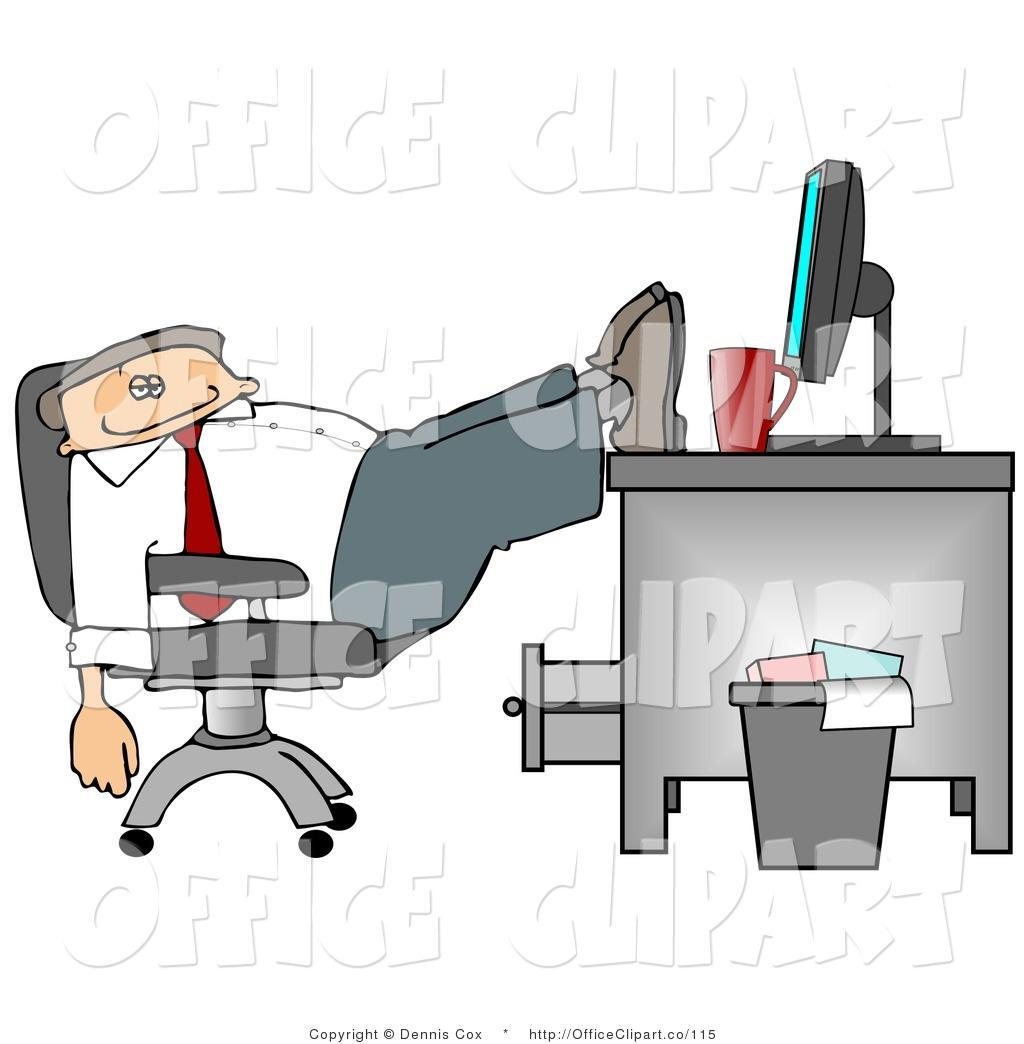chair: (6, 350, 400, 868)
person: (24, 274, 694, 793)
tvmonitor: (745, 151, 962, 457)
